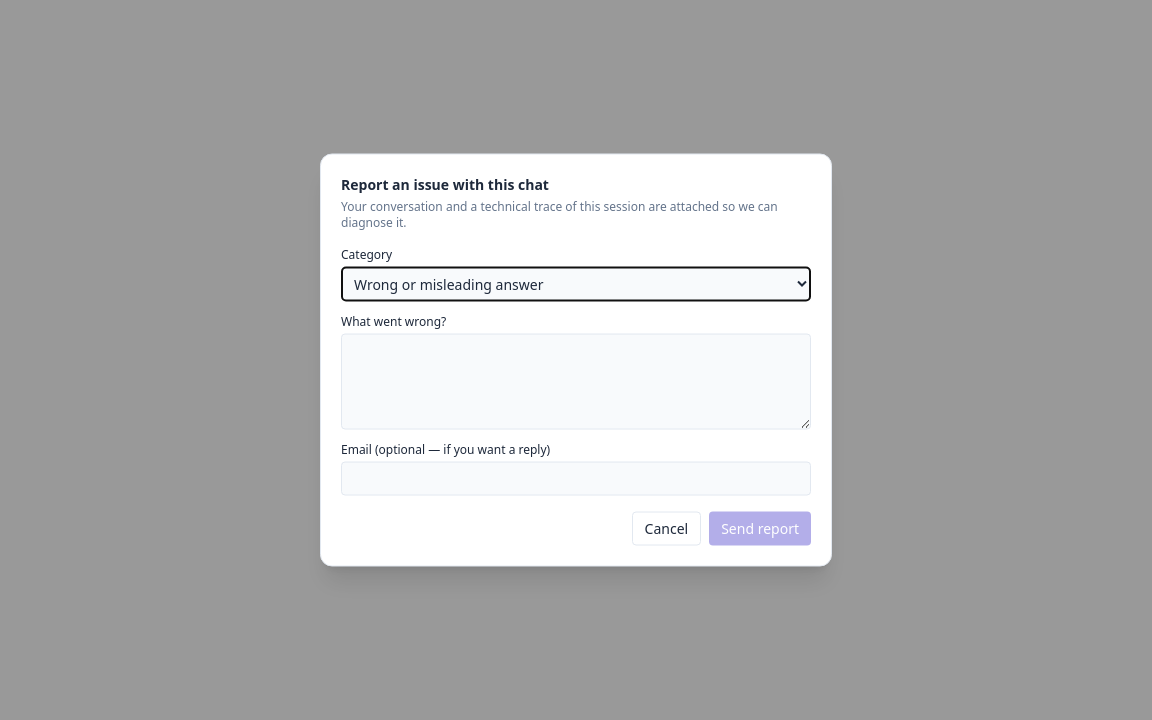
it: ReportIssueDialog › requires a description before it can submit
Check: the button "Send report" is disabled, box [709,512,811,546]
Type "the answer was wrong" into the text box labelled "What went wrong?" at (576, 382), box [341,334,811,430]
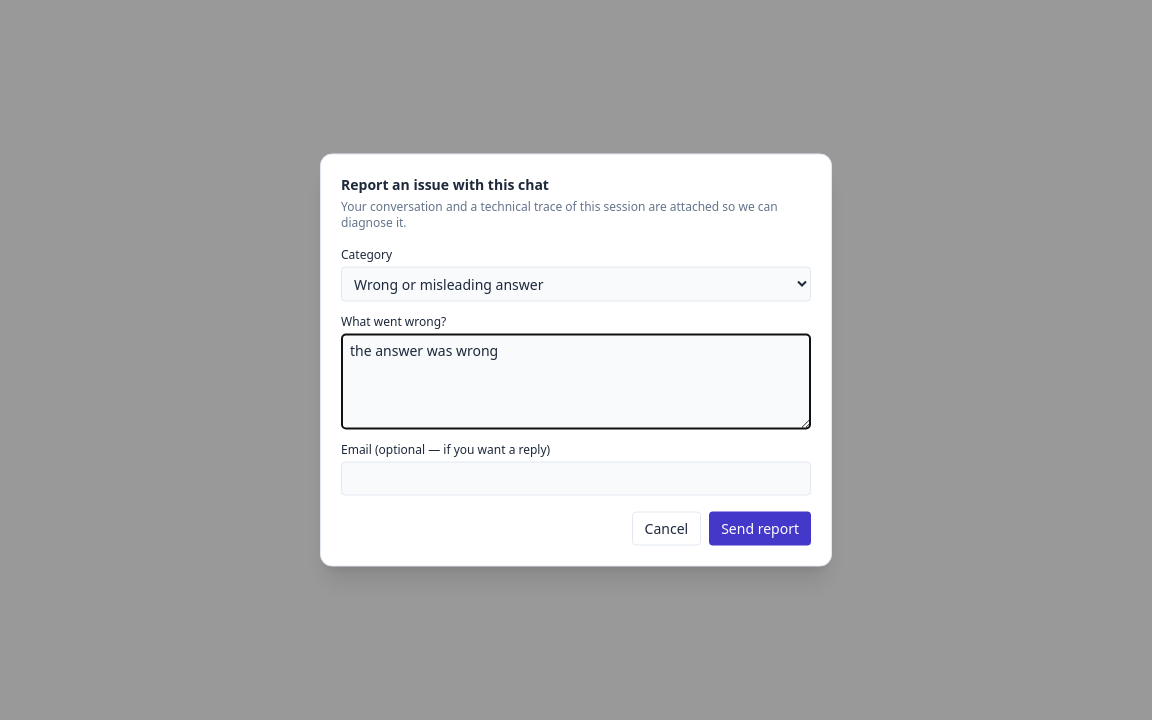
Check: the button "Send report" is enabled, box [709,512,811,546]
